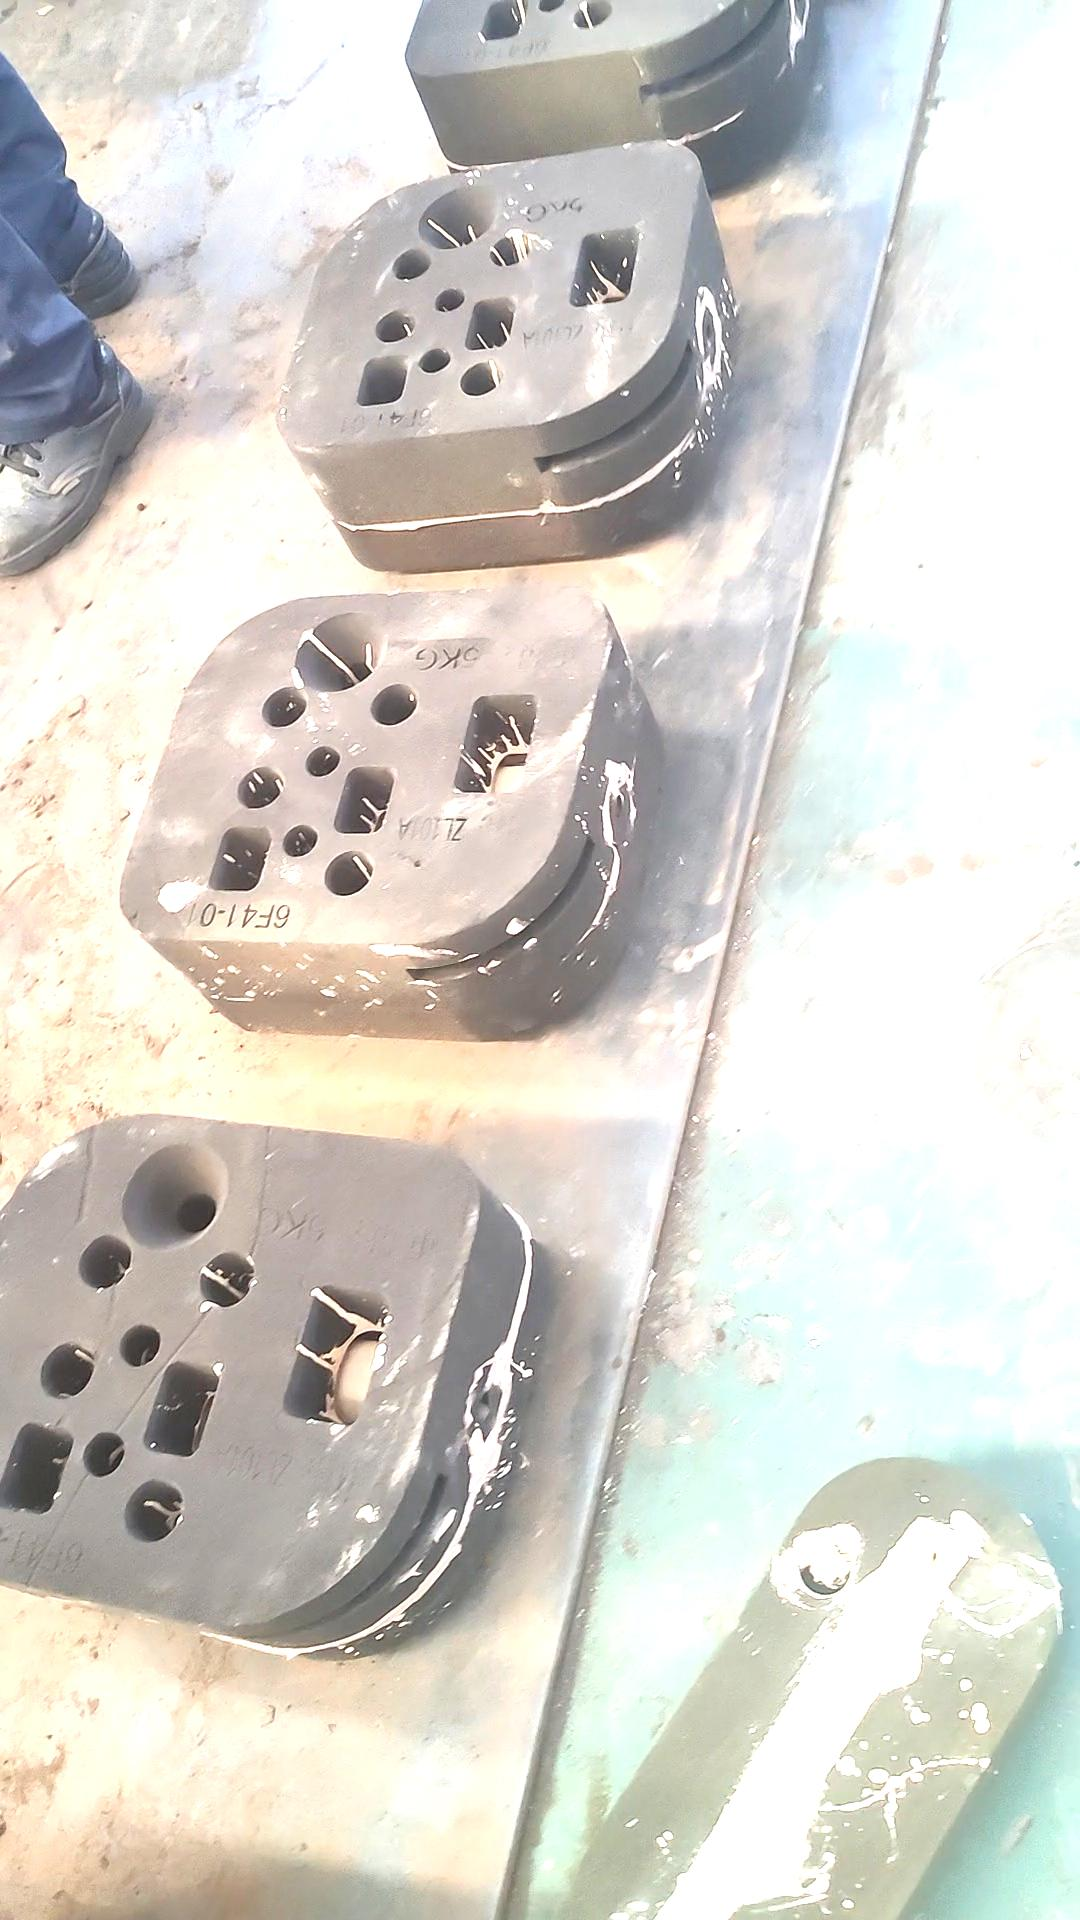pouring hole: (120, 1139, 228, 1253), (295, 612, 385, 691), (419, 185, 497, 251)
